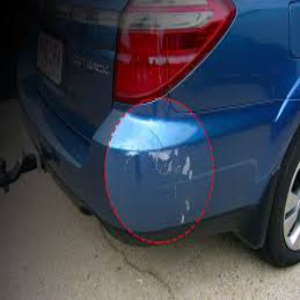bumper_scratch: (122, 140, 195, 225)
